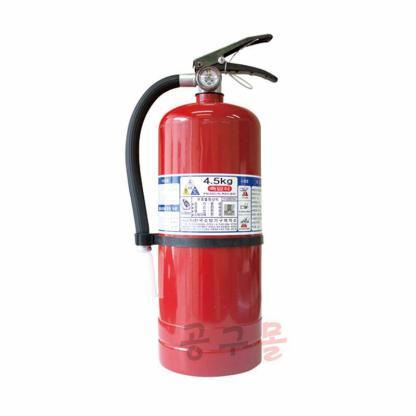Fire Extinguisher: (117, 26, 298, 378)
